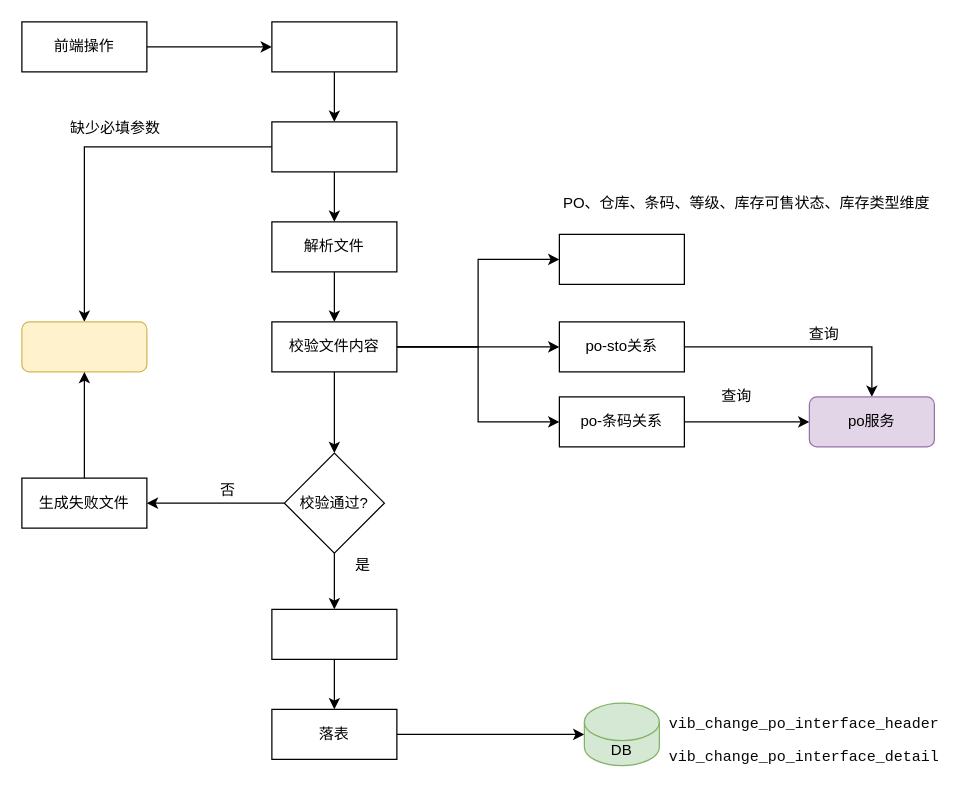
Image size: 961x803. Some labels were removed from this diagram. Here are the shapes that lost their labels. From the top down, the centre of each, then its label:
At [334,46]: "osp-inv-bill".
At [334,146]: "参数转换&校验".
At [621,258]: "数据是否重复".
At [84,346]: "结束".
At [334,633]: "按仓库分组处理".
